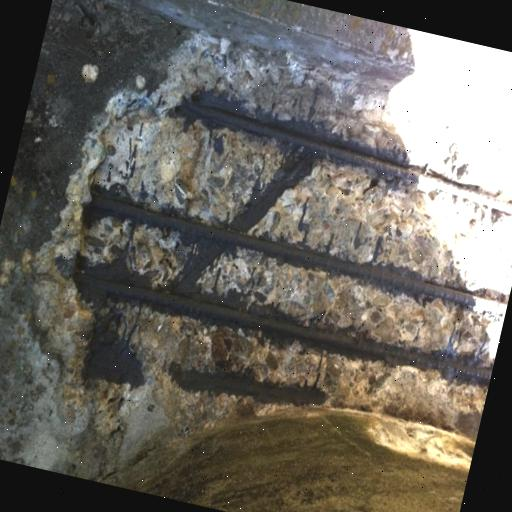spalling: (16, 3, 512, 475)
